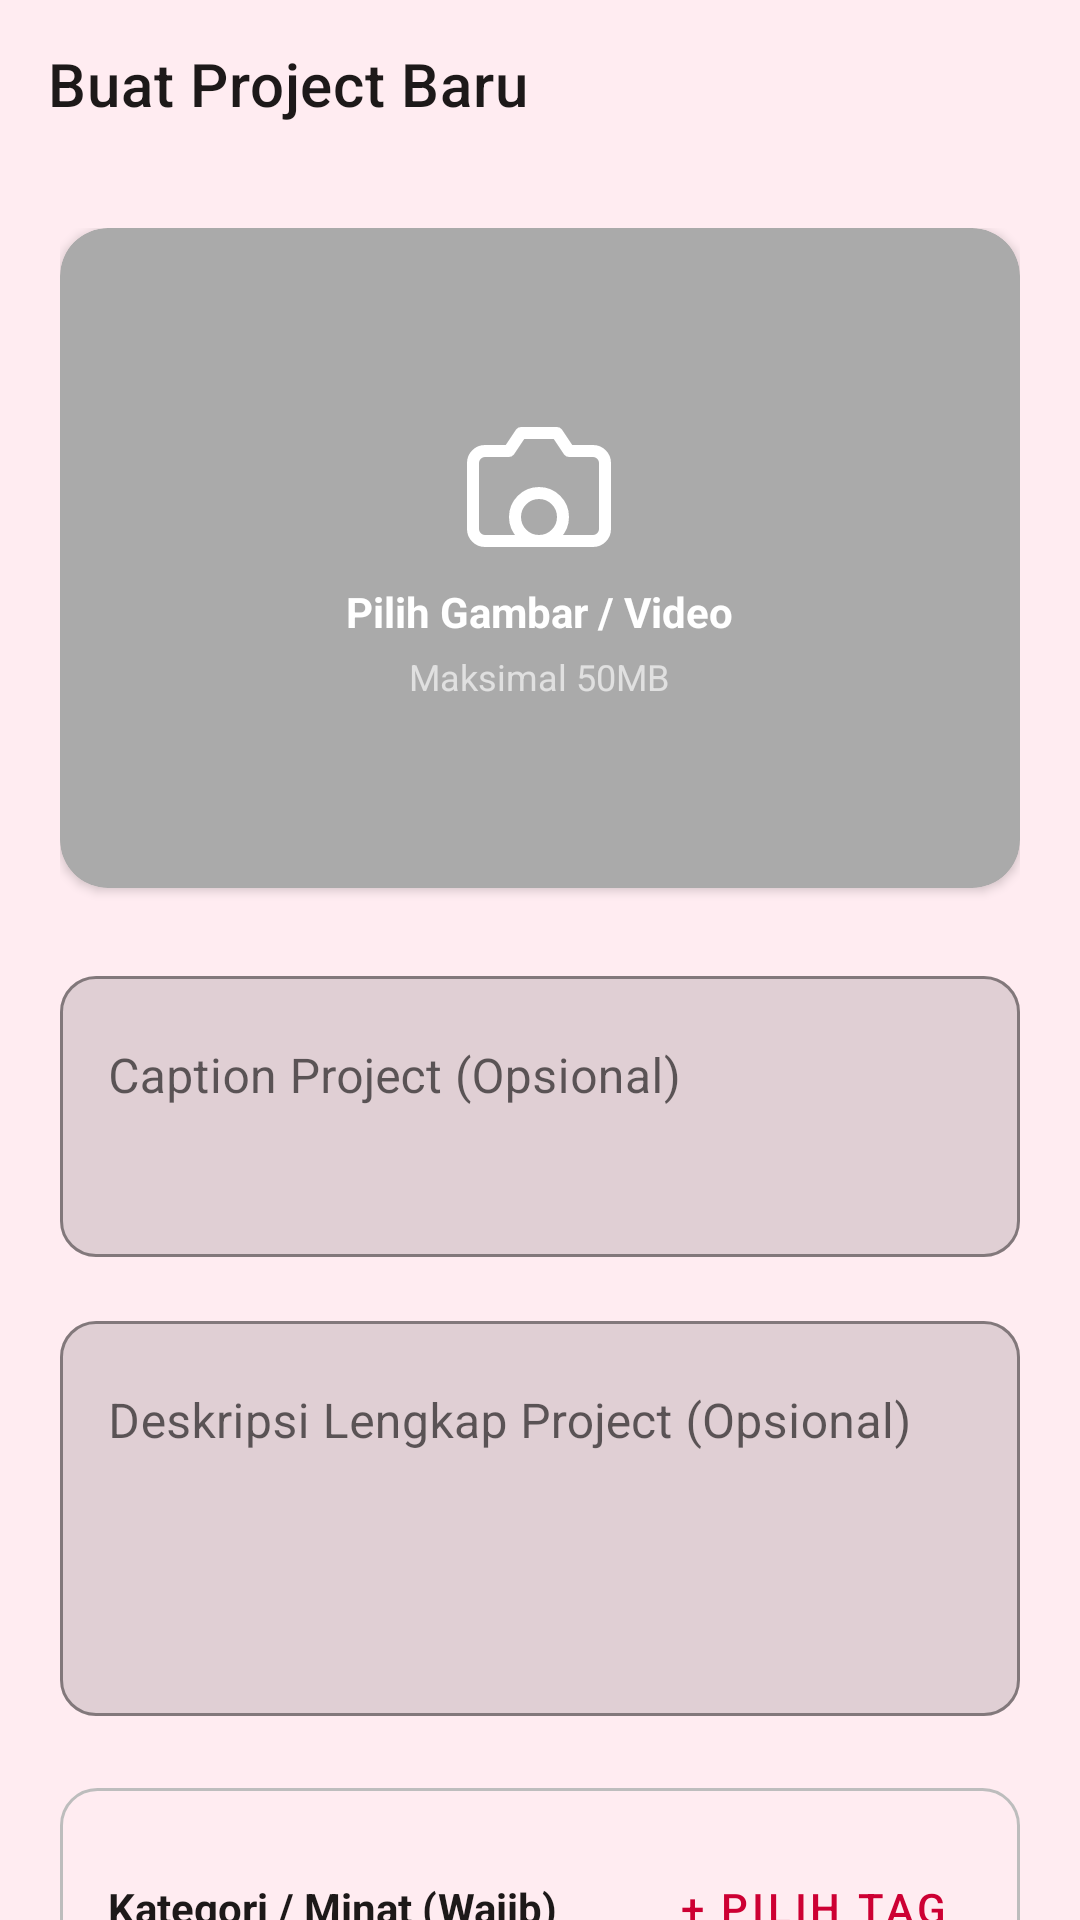

Where to tap for icons on this 1080px x 1920px app screen, as point (x, y):
camera scan: point (539, 487)
